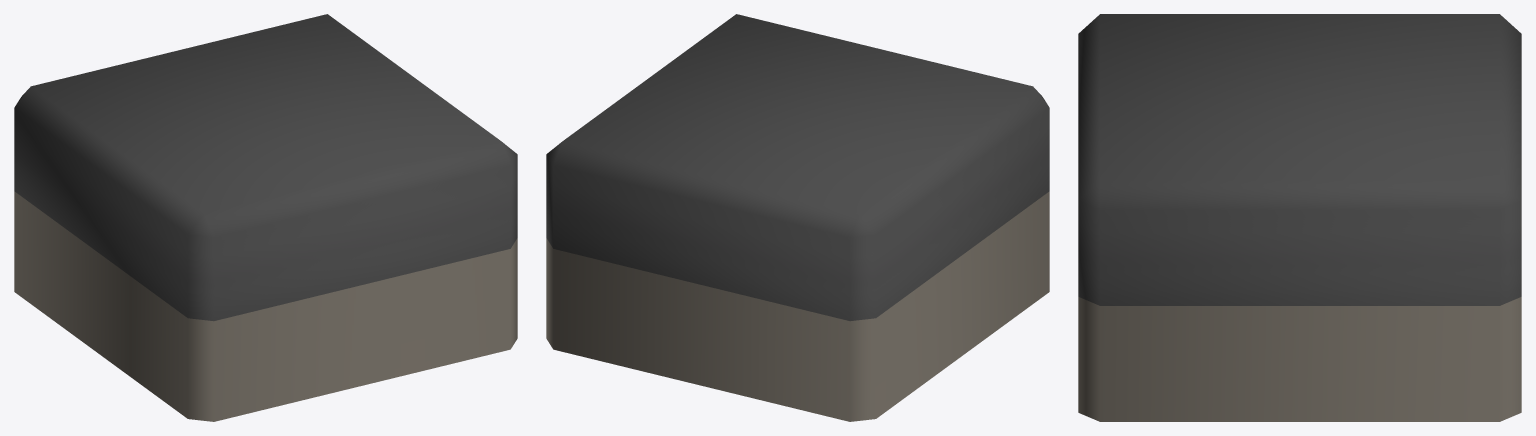
File: RoofAdd_2_A_6.fbx
The picture shows the model from 3 angles, left to right: view 1: azimuth 30°, elevation 25°; view 2: azimuth 150°, elevation 25°; view 3: azimuth 270°, elevation 25°; orthographic projection. The views are drawn at different scales.
Parts seen in each view (by area): view 1: RoofAdd_2_A_6; view 2: RoofAdd_2_A_6; view 3: RoofAdd_2_A_6.
Part boxes in pixels (bbox=[...]): RoofAdd_2_A_6: bbox=[14, 14, 517, 421]; RoofAdd_2_A_6: bbox=[546, 14, 1049, 421]; RoofAdd_2_A_6: bbox=[1078, 14, 1521, 421].
Size of the model in its own units: 127 by 74.17 by 128.
